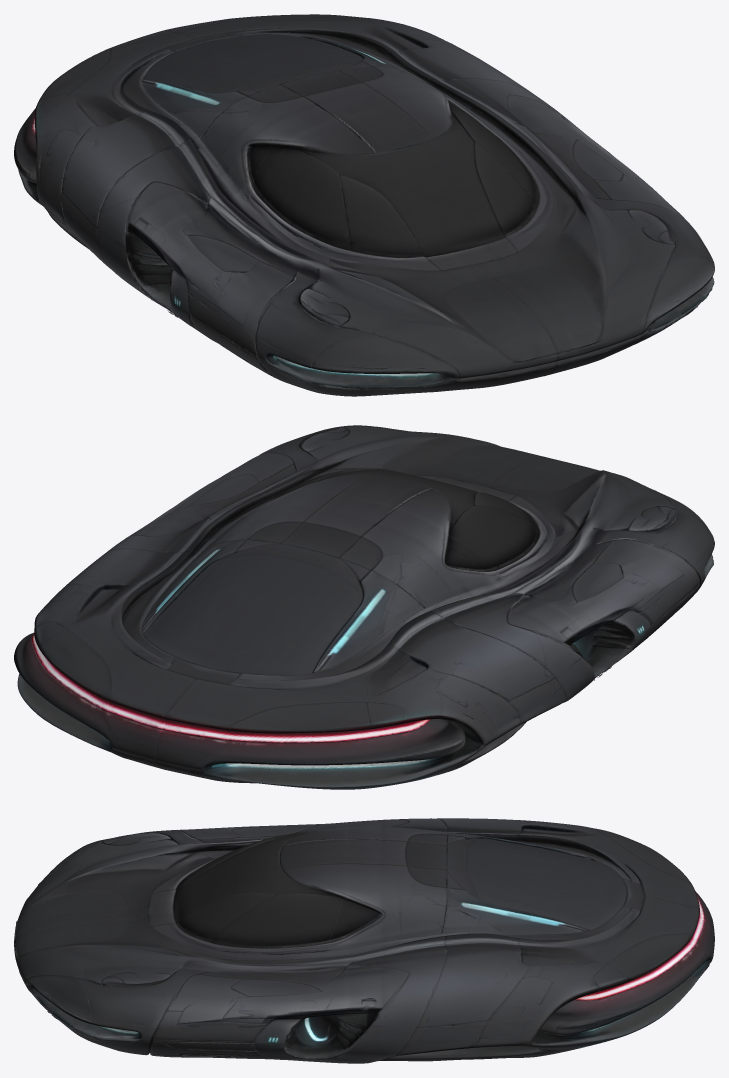
Rendered from car.glb.
The picture shows the model from 3 angles, top to bottom: view 1: azimuth 30°, elevation 25°; view 2: azimuth 150°, elevation 25°; view 3: azimuth 270°, elevation 25°; orthographic projection. The views are drawn at different scales.
Visible parts, largest first — view 1: tripo_node_7d990351-a801-4325-b57e-f6ca6f85a9f6; view 2: tripo_node_7d990351-a801-4325-b57e-f6ca6f85a9f6; view 3: tripo_node_7d990351-a801-4325-b57e-f6ca6f85a9f6.
Boxes of the visible parts, <box> form: tripo_node_7d990351-a801-4325-b57e-f6ca6f85a9f6: <box>14,14,714,396</box>; tripo_node_7d990351-a801-4325-b57e-f6ca6f85a9f6: <box>14,425,714,789</box>; tripo_node_7d990351-a801-4325-b57e-f6ca6f85a9f6: <box>14,818,714,1063</box>.
Bounding box in the file's own units: 0.6545 × 0.2127 × 0.9798.
Materials: 1 (1 with a texture image).
